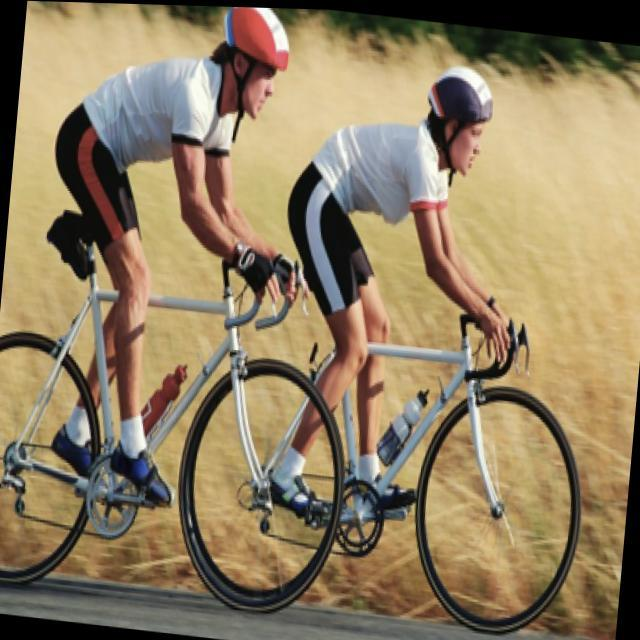Helmet: (406, 62, 504, 188), (203, 0, 295, 128)
